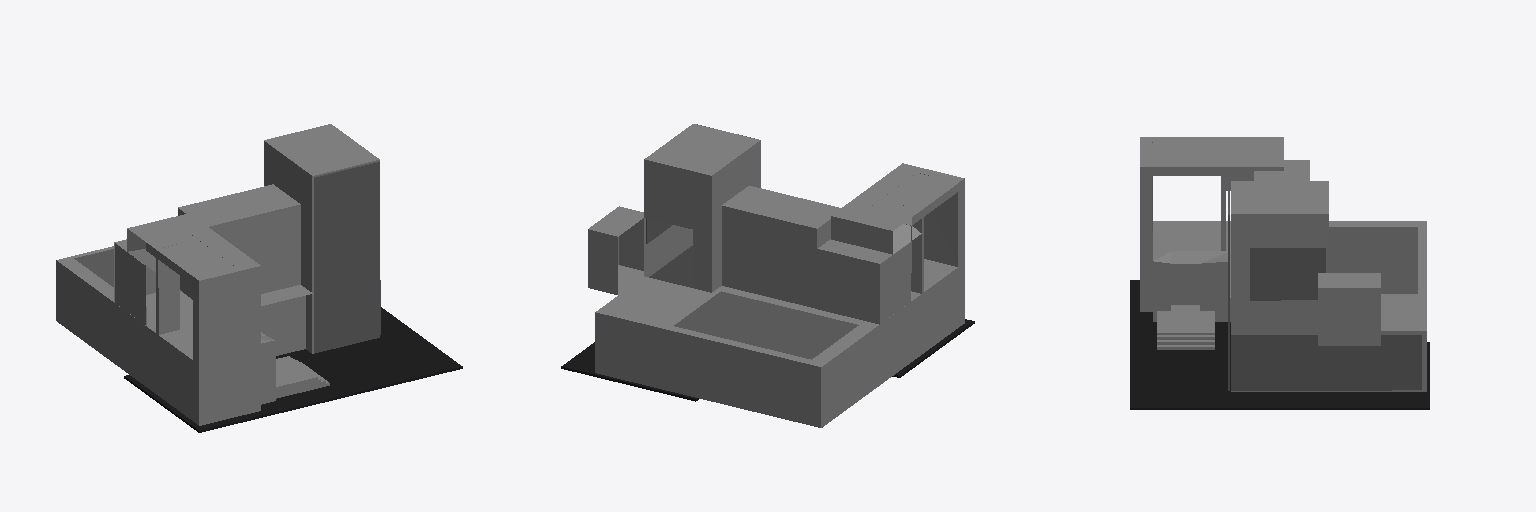
Rendered from EcoBrutal.obj.
3 renders of one model, left to right at view 1: azimuth 30°, elevation 25°; view 2: azimuth 150°, elevation 25°; view 3: azimuth 270°, elevation 25°, orthographic.
Visible parts, largest first — view 1: polySurface303_polySurface303, polySurface296, Brutalism2:polySurface20, polySurface280_polySurface280, polySurface84; view 2: polySurface303_polySurface303, polySurface84, polySurface282_polySurface282, Brutalism2:polySurface20, polySurface295; view 3: polySurface303_polySurface303, Brutalism2:polySurface20, polySurface295, polySurface282_polySurface282, polySurface297, polySurface280_polySurface280, polySurface84.
Part boxes in pixels (x1,y1,x2,y2): polySurface303_polySurface303: (56, 124, 379, 425); polySurface296: (314, 161, 379, 353); Brutalism2:polySurface20: (124, 307, 462, 432); polySurface280_polySurface280: (276, 356, 329, 398); polySurface84: (74, 249, 113, 286); polySurface303_polySurface303: (595, 124, 964, 427); polySurface84: (674, 297, 848, 359); polySurface282_polySurface282: (588, 206, 643, 294); Brutalism2:polySurface20: (561, 319, 974, 401); polySurface295: (649, 244, 693, 287); polySurface303_polySurface303: (1140, 137, 1426, 391); Brutalism2:polySurface20: (1130, 280, 1429, 409); polySurface295: (1231, 335, 1421, 390); polySurface282_polySurface282: (1318, 273, 1380, 345); polySurface297: (1250, 248, 1325, 300); polySurface280_polySurface280: (1157, 311, 1214, 349); polySurface84: (1329, 227, 1417, 262).
Bounding box in the file's own units: 24.09 × 15.74 × 23.7.